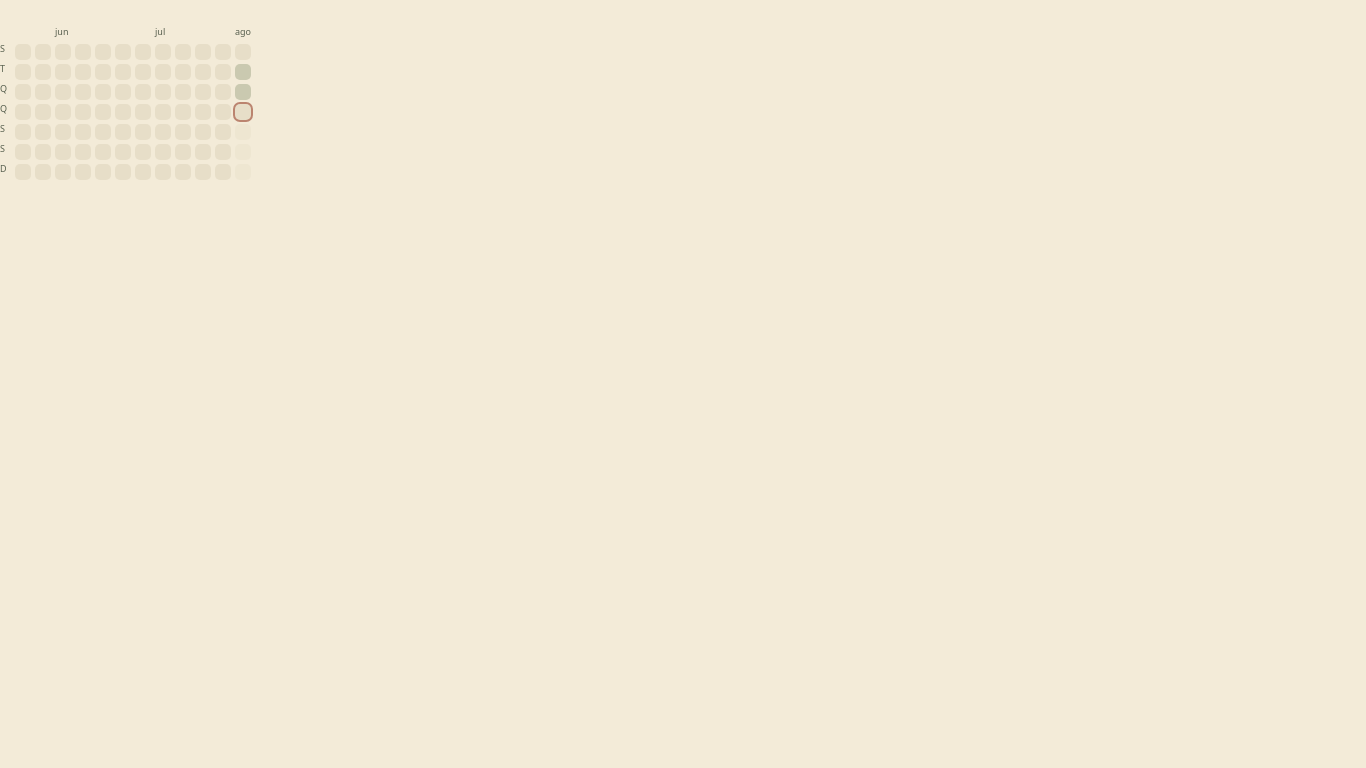
Test: MapaCalor no fluxo do cliente autenticado › terapeuta vê o heatmap escopado a um cliente por vez, sem vazar o outro
Later steps or results of the test are not shown.
Click the button named "05 de ago. — 1 prática". click: (243, 92)
box: [235,84,251,100]
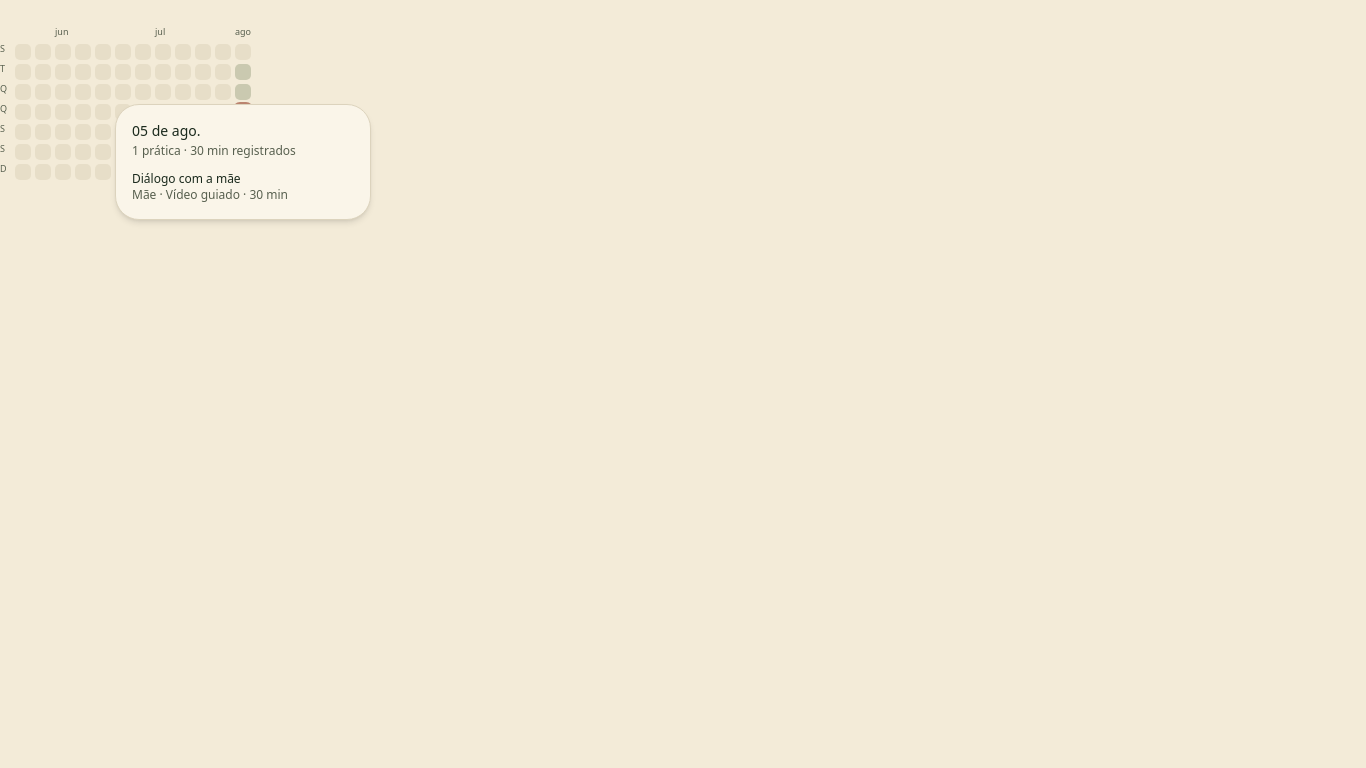
Expected: the text "Diálogo com a mãe" is shown, [132,170,241,187]
